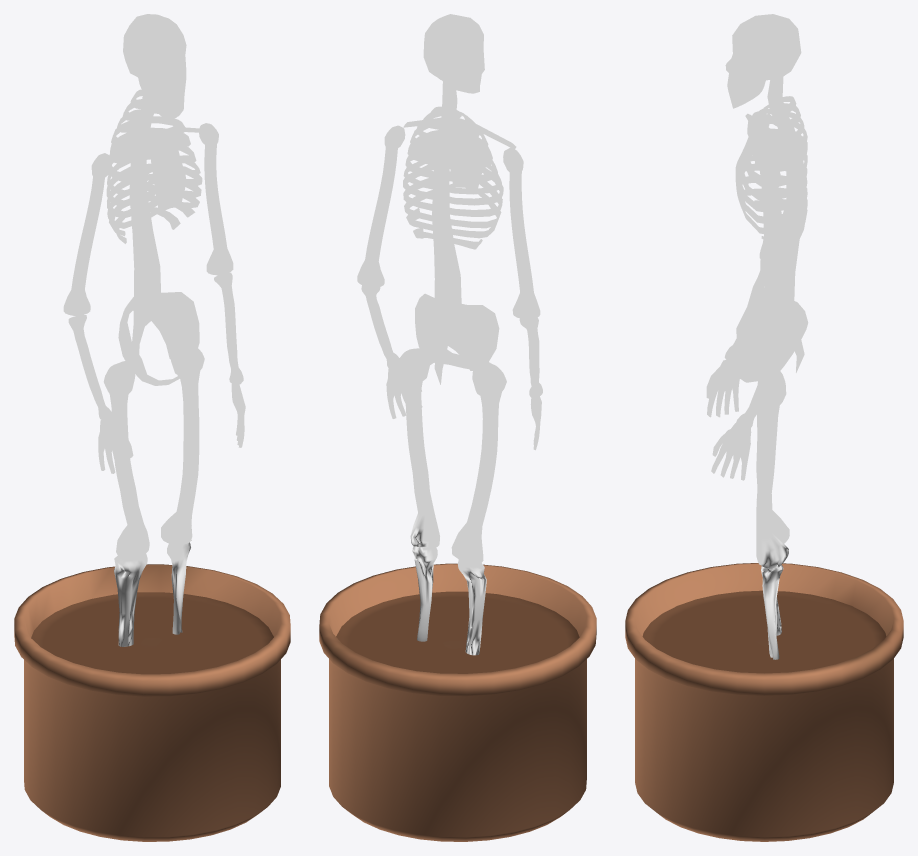
File: SM_SkeletonFlower_01.fbx
The picture shows the model from 3 angles, left to right: view 1: azimuth 30°, elevation 25°; view 2: azimuth 150°, elevation 25°; view 3: azimuth 270°, elevation 25°; orthographic projection.
Visible parts, largest first — view 1: Pot, Skeleton; view 2: Pot, Skeleton; view 3: Pot, Skeleton.
Boxes of the visible parts, left/top/right/bottom form: Pot: left=14, top=564, right=290, bottom=841; Skeleton: left=63, top=14, right=245, bottom=646; Pot: left=319, top=563, right=596, bottom=841; Skeleton: left=357, top=14, right=542, bottom=655; Pot: left=625, top=563, right=903, bottom=841; Skeleton: left=706, top=14, right=808, bottom=659.
Size of the model in its own units: 1.27 by 3.91 by 1.27.
